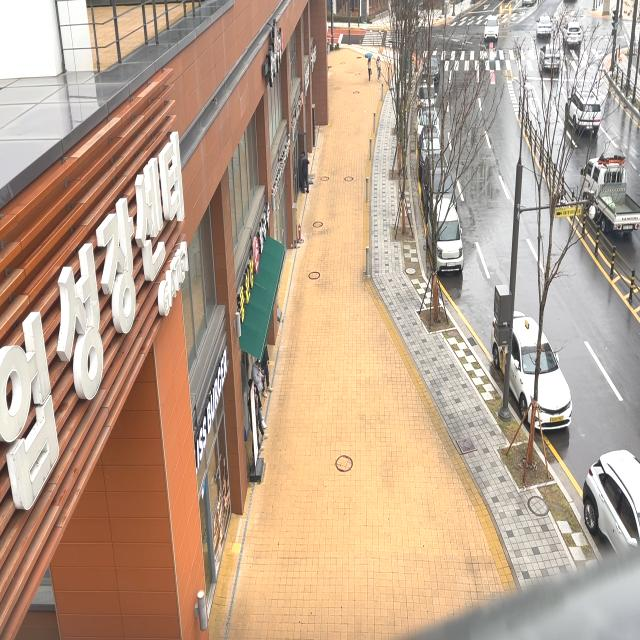Car: (490, 291, 586, 442), (575, 440, 640, 560), (424, 195, 467, 282), (422, 157, 464, 216), (562, 81, 600, 140), (416, 128, 447, 170), (538, 38, 564, 77), (561, 14, 586, 50), (532, 11, 558, 41), (416, 110, 444, 137), (481, 11, 502, 46), (417, 80, 441, 110), (426, 56, 445, 84)
Truck: (570, 143, 638, 249)
